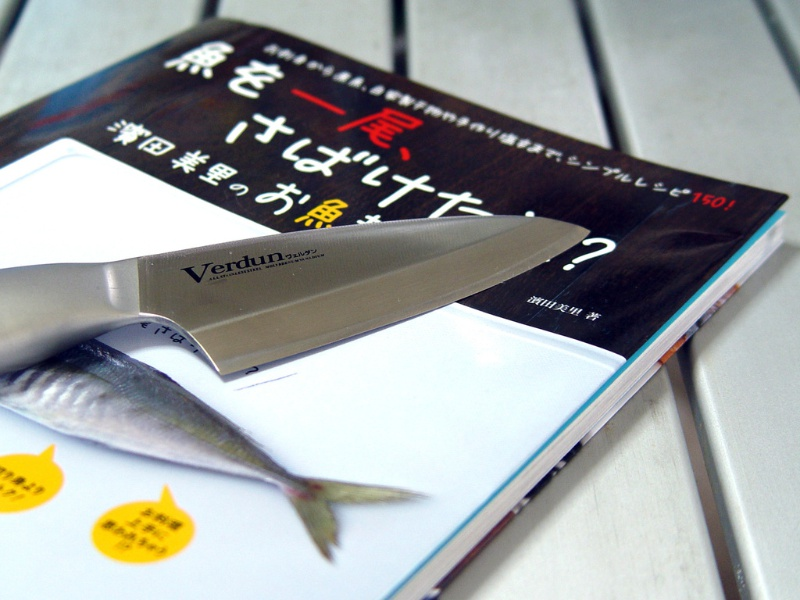knife: (1, 211, 591, 388)
